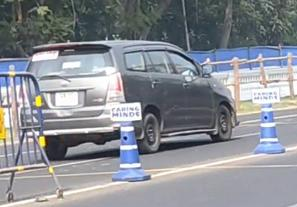Car: (17, 40, 237, 159)
